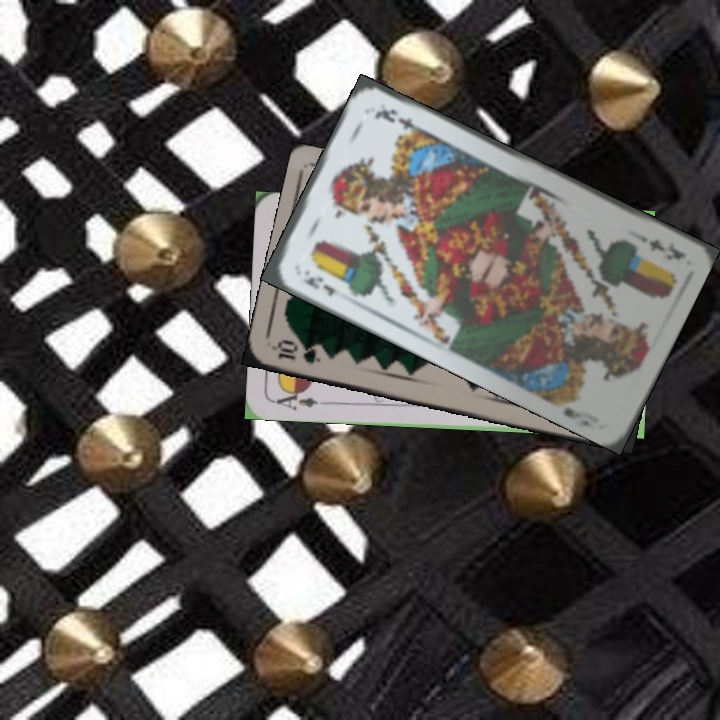EA: (270, 385, 329, 413)
EK: (632, 230, 689, 263), (300, 266, 338, 299)
G10: (271, 336, 323, 367)
